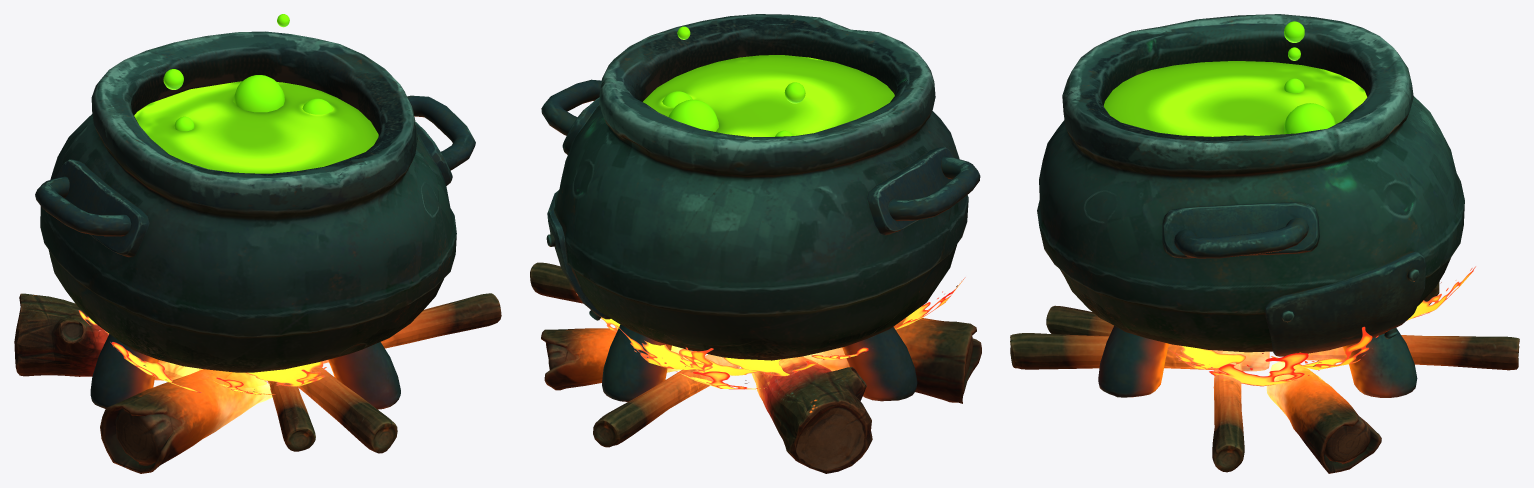
The model's file is writer.glb.
The picture shows the model from 3 angles, left to right: view 1: azimuth 30°, elevation 25°; view 2: azimuth 150°, elevation 25°; view 3: azimuth 270°, elevation 25°; orthographic projection. The views are drawn at different scales.
Visible parts, largest first — view 1: Cauldron_Body_low:ZBrush_defualt_group, Cauldron_FloatingPieces_low:Cauldron_FloatingPieces_low:poly, peeledWood_low, WoodLogA_low:ZBrush_defualt_group, ZBrush_defualt_group1, branch_low:ZBrush_defualt_group, ZBrush_defualt_group2, pPlane12, pPlane1; view 2: Cauldron_Body_low:ZBrush_defualt_group, Cauldron_FloatingPieces_low:Cauldron_FloatingPieces_low:poly, WoodLogA_low:ZBrush_defualt_group, peeledWood_low, peeledWood_low1, ZBrush_defualt_group, branch_low:ZBrush_defualt_group, pPlane15, pPlane9, pPlane10, FireSprites:pPlane1; view 3: Cauldron_Body_low:ZBrush_defualt_group, Cauldron_FloatingPieces_low:Cauldron_FloatingPieces_low:poly, peeledWood_low1, ZBrush_defualt_group1, ZBrush_defualt_group, branch_low:ZBrush_defualt_group, ZBrush_defualt_group2, FireSprites:pPlane3, pPlane13, FireSprites:pPlane9, pPlane15.
Part boxes in pixels (bbox=[...]): Cauldron_Body_low:ZBrush_defualt_group: bbox=[40, 31, 456, 372]; Cauldron_FloatingPieces_low:Cauldron_FloatingPieces_low:poly: bbox=[35, 14, 475, 409]; peeledWood_low: bbox=[100, 369, 272, 473]; WoodLogA_low:ZBrush_defualt_group: bbox=[14, 293, 202, 380]; ZBrush_defualt_group1: bbox=[298, 367, 397, 453]; branch_low:ZBrush_defualt_group: bbox=[322, 293, 501, 363]; ZBrush_defualt_group2: bbox=[268, 381, 315, 451]; pPlane12: bbox=[246, 361, 326, 386]; pPlane1: bbox=[110, 342, 201, 392]; Cauldron_Body_low:ZBrush_defualt_group: bbox=[554, 14, 968, 360]; Cauldron_FloatingPieces_low:Cauldron_FloatingPieces_low:poly: bbox=[541, 26, 980, 401]; WoodLogA_low:ZBrush_defualt_group: bbox=[751, 356, 872, 473]; peeledWood_low: bbox=[803, 318, 981, 403]; peeledWood_low1: bbox=[541, 328, 688, 390]; ZBrush_defualt_group: bbox=[593, 354, 739, 447]; branch_low:ZBrush_defualt_group: bbox=[530, 262, 582, 303]; pPlane15: bbox=[616, 325, 712, 370]; pPlane9: bbox=[678, 347, 758, 375]; pPlane10: bbox=[723, 357, 818, 376]; FireSprites:pPlane1: bbox=[675, 366, 766, 389]; Cauldron_Body_low:ZBrush_defualt_group: bbox=[1037, 14, 1464, 352]; Cauldron_FloatingPieces_low:Cauldron_FloatingPieces_low:poly: bbox=[1098, 21, 1426, 397]; peeledWood_low1: bbox=[1266, 361, 1381, 473]; ZBrush_defualt_group1: bbox=[1010, 333, 1269, 371]; ZBrush_defualt_group: bbox=[1306, 335, 1519, 370]; branch_low:ZBrush_defualt_group: bbox=[1212, 351, 1244, 472]; ZBrush_defualt_group2: bbox=[1046, 305, 1113, 335]; FireSprites:pPlane3: bbox=[1209, 353, 1319, 386]; pPlane13: bbox=[1166, 345, 1246, 369]; FireSprites:pPlane9: bbox=[1271, 326, 1378, 369]; pPlane15: bbox=[1406, 266, 1475, 320].
Size of the model in its own units: 1.04 by 0.8357 by 1.04.
Materials: 4 (4 with a texture image).
